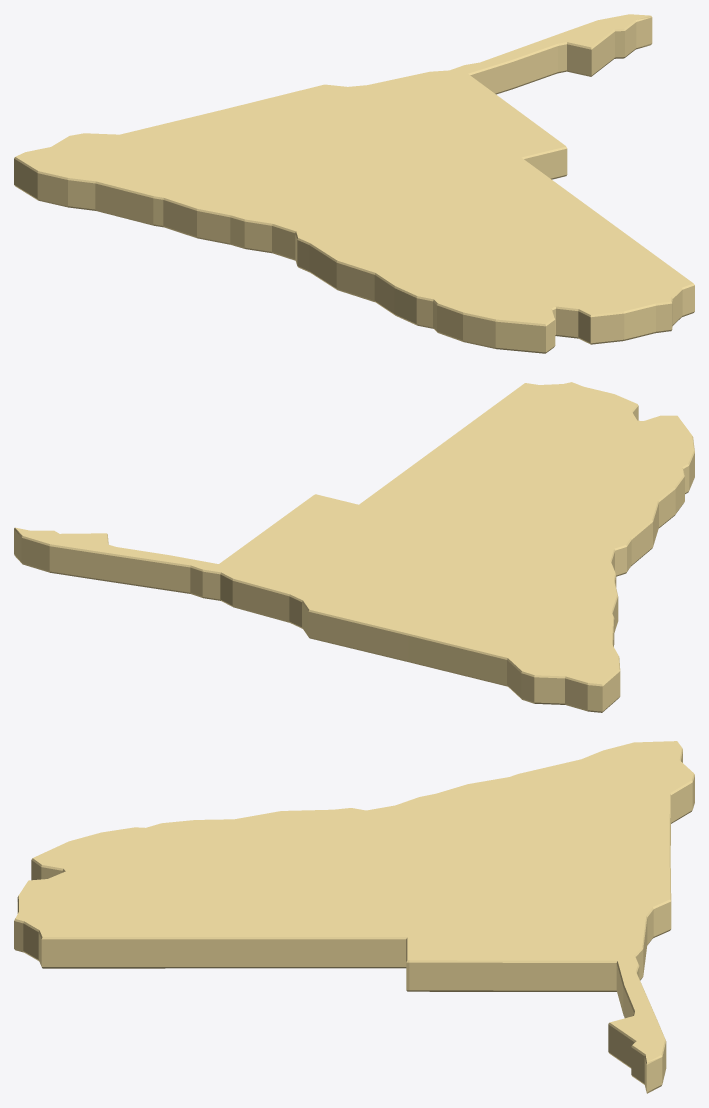
File: NAM.glb
3 renders of one model, top to bottom at view 1: azimuth 30°, elevation 25°; view 2: azimuth 150°, elevation 25°; view 3: azimuth 270°, elevation 25°, orthographic. The views are drawn at different scales.
Bounding box in the file's own units: 1.5 × 0.068 × 1.34.
